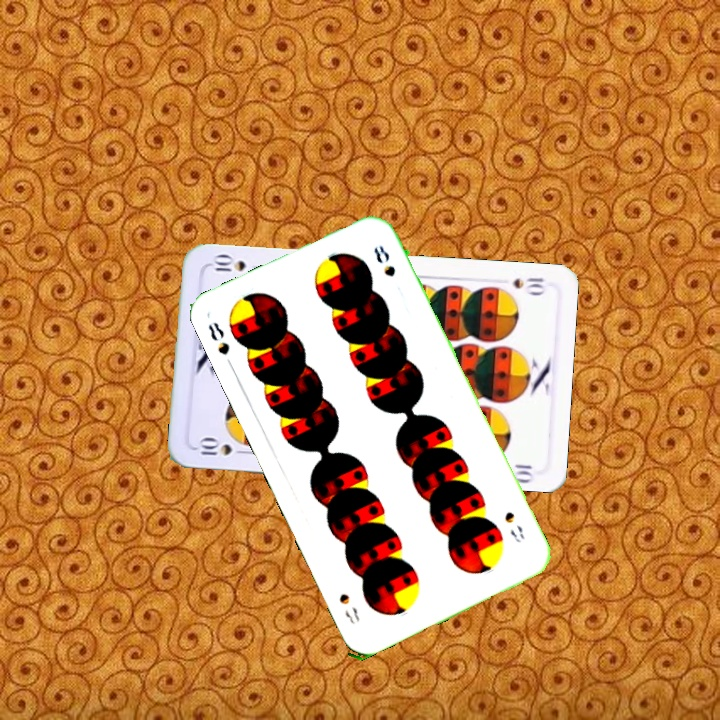S10: (192, 435, 251, 458), (508, 273, 547, 297)
S8: (204, 318, 233, 358), (500, 507, 528, 546)
